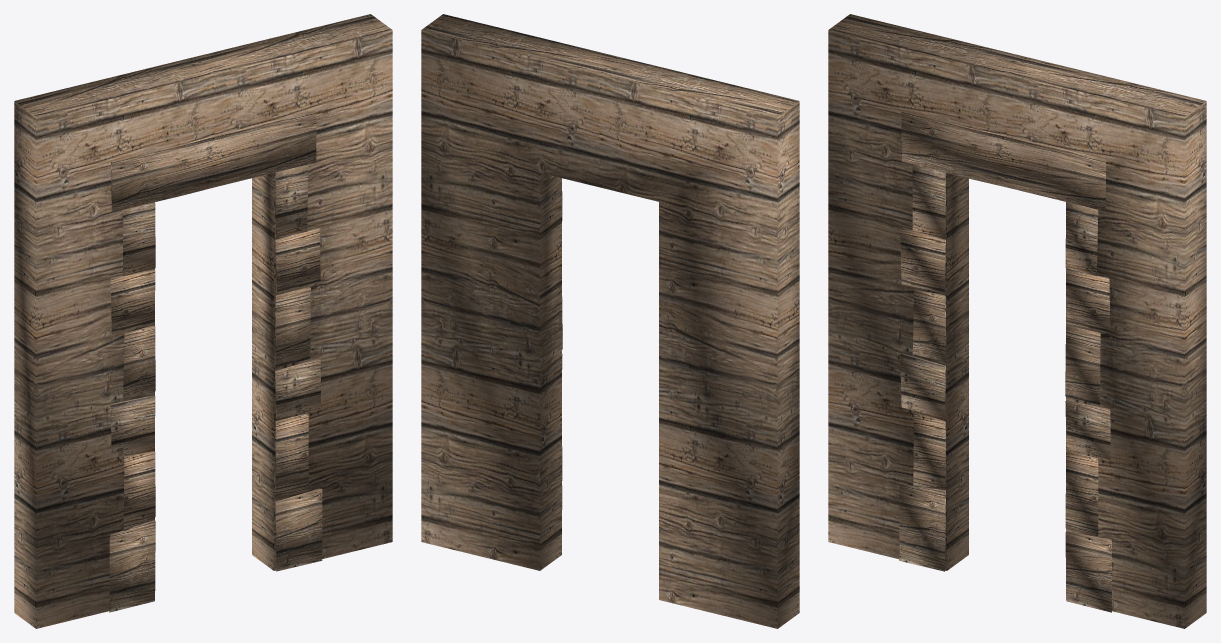
File: wood door2.glb
3 renders of one model, left to right at view 1: azimuth 30°, elevation 25°; view 2: azimuth 150°, elevation 25°; view 3: azimuth 330°, elevation 25°, orthographic.
Visible parts, largest first — view 1: Rectangle Door Wall.002; view 2: Rectangle Door Wall.002; view 3: Rectangle Door Wall.002.
Boxes of the visible parts, left/top/right/bottom form: Rectangle Door Wall.002: left=14, top=14, right=392, bottom=628; Rectangle Door Wall.002: left=421, top=14, right=799, bottom=628; Rectangle Door Wall.002: left=828, top=14, right=1206, bottom=628.
Size of the model in its own units: 2 by 2.75 by 0.225.
Materials: 2 (2 with a texture image).
